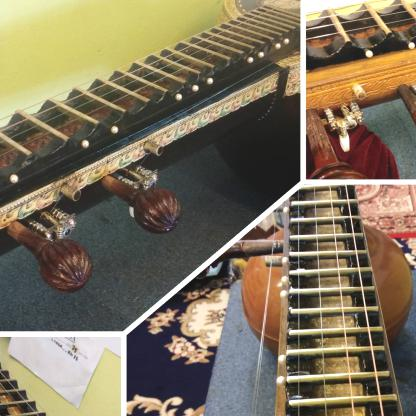Veena: (1, 15, 269, 207), (242, 159, 401, 410)
